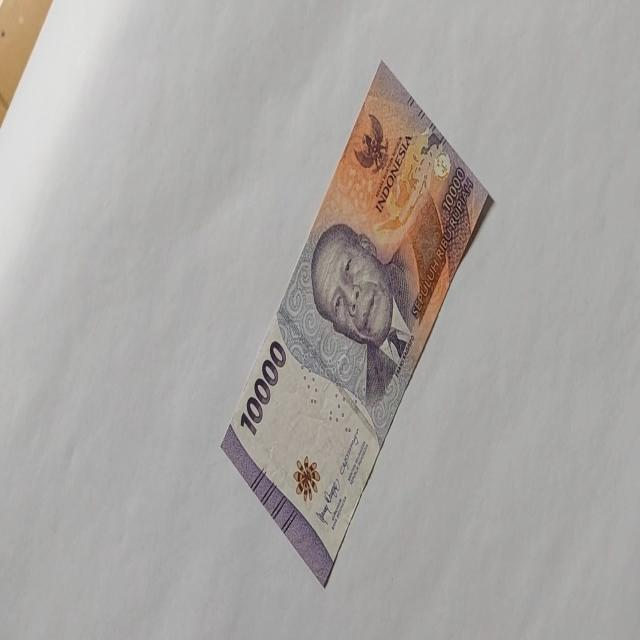sepuluh ribu rupiah: (219, 58, 494, 588), (239, 338, 287, 438)
